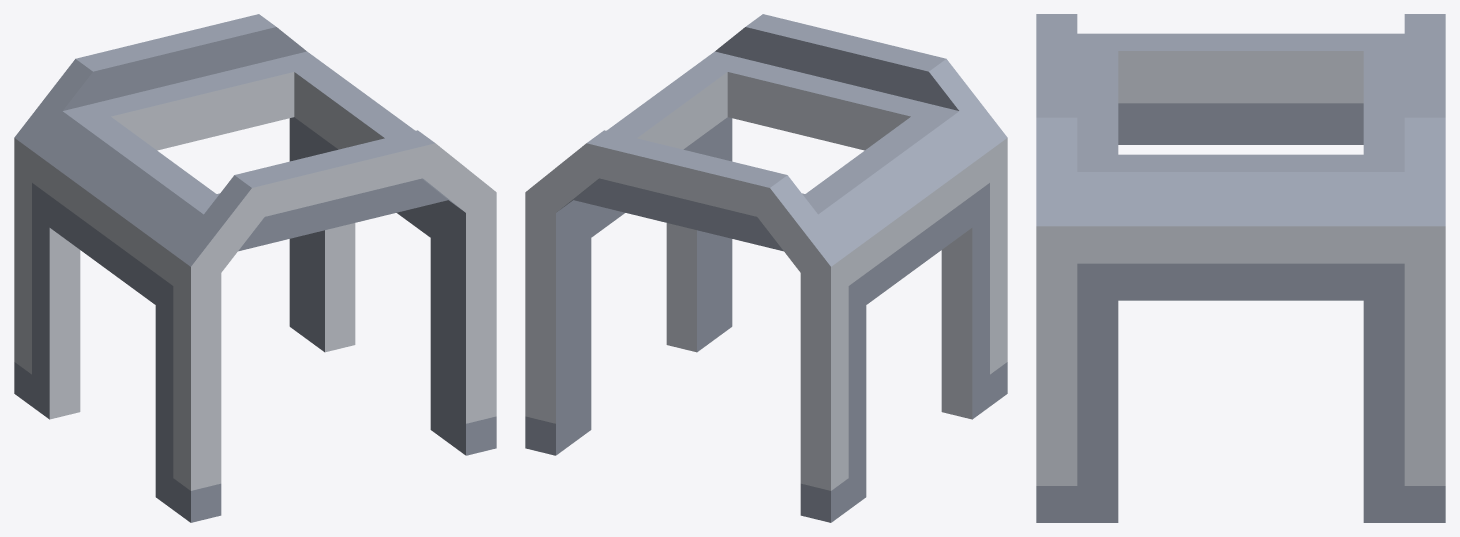
Rendered from corridor_open.glb.
The picture shows the model from 3 angles, left to right: view 1: azimuth 30°, elevation 25°; view 2: azimuth 150°, elevation 25°; view 3: azimuth 270°, elevation 25°; orthographic projection. The views are drawn at different scales.
Visible parts, largest first — view 1: corridor_open; view 2: corridor_open; view 3: corridor_open.
Part boxes in pixels (left/top/right/bottom): corridor_open: left=14, top=14, right=496, bottom=522; corridor_open: left=525, top=14, right=1007, bottom=522; corridor_open: left=1036, top=14, right=1445, bottom=522.
Size of the model in its own units: 1 by 1 by 1.
